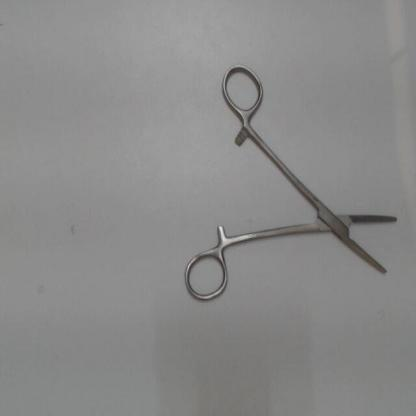Mayo Needle Holder: (179, 59, 407, 307)
